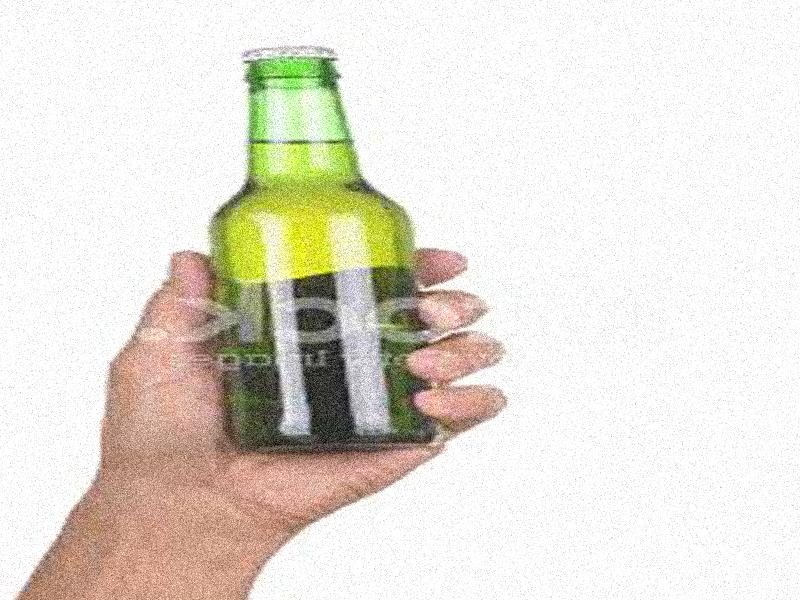Beer: (204, 46, 423, 450)
